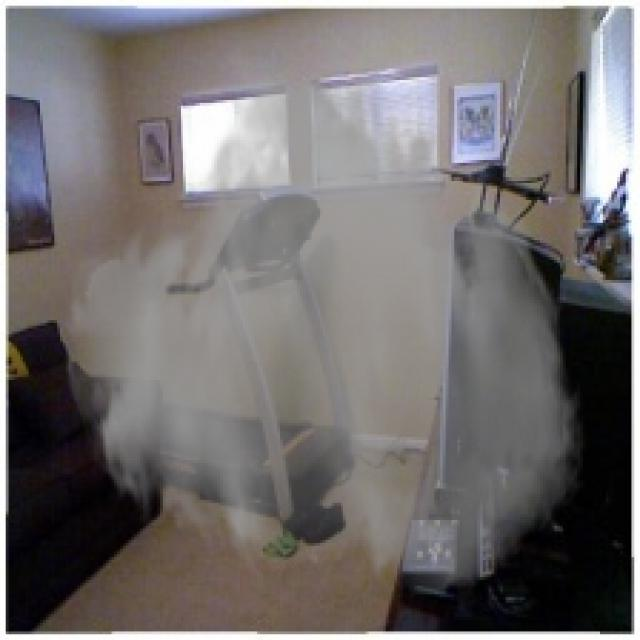smoke: (60, 40, 589, 600)
